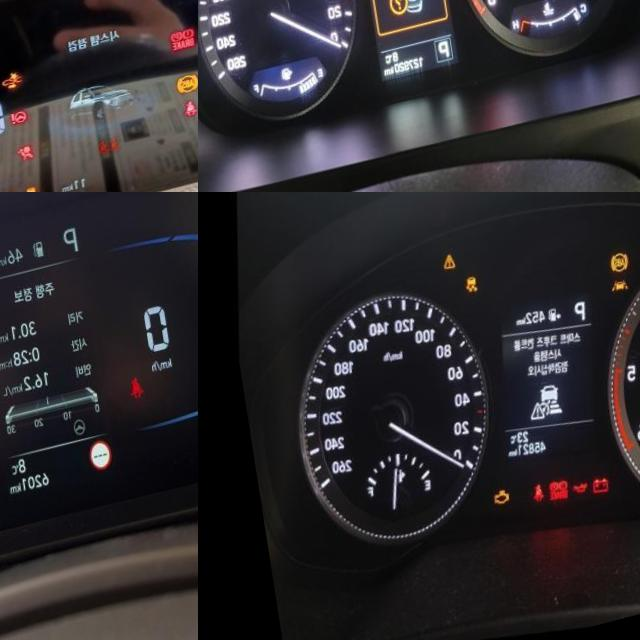Central Warning lamp: (434, 262, 450, 281)
LaneCenteringOff: (601, 296, 620, 313)
